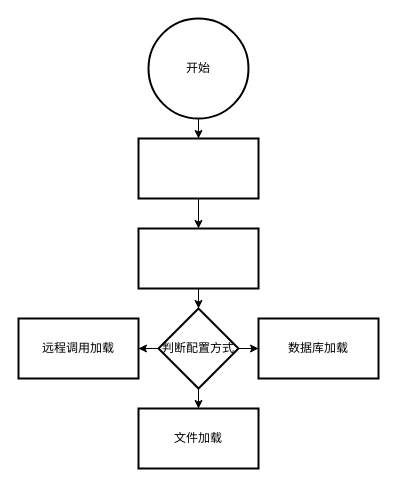
Some shapes in this 396 by 486 pixel diagram are drawn without their labels. The shapes that lost their labels are listed below. From the top down, each one's centre as x and y in pixels, then its label:
(198,168): 初始化基础类文件
(198,258): 加载主配置文件
